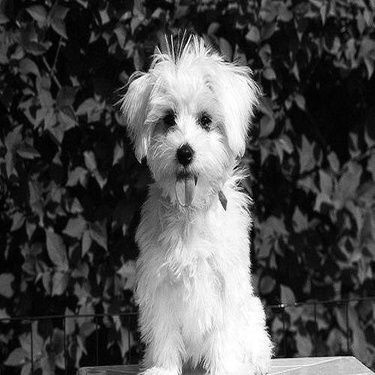dog: (100, 24, 281, 374)
